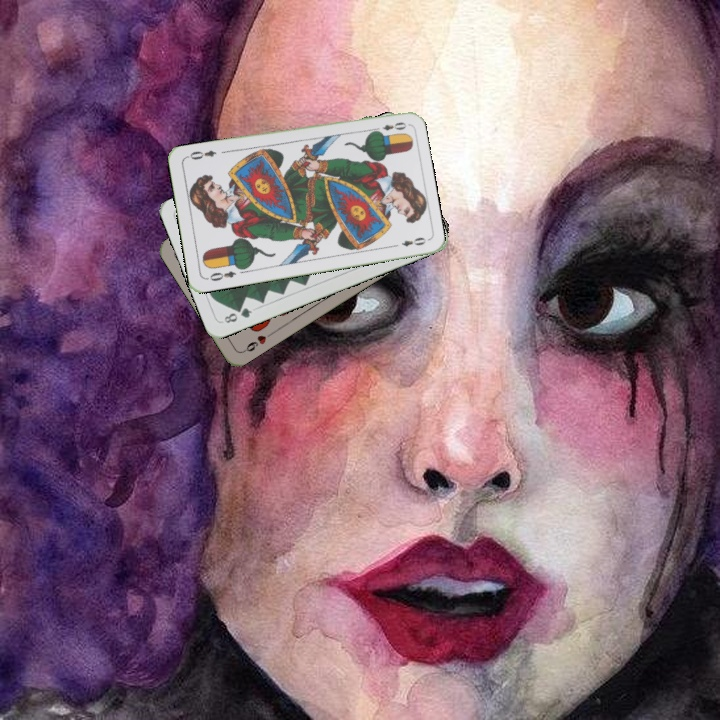EO: (369, 118, 409, 135), (206, 267, 239, 284)
G8: (218, 303, 255, 326)
H9: (238, 329, 275, 355)
